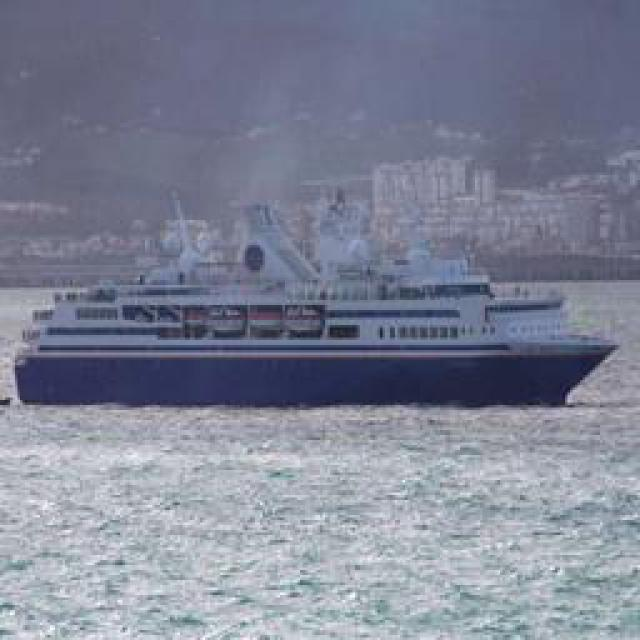Ship: (18, 222, 603, 405)
